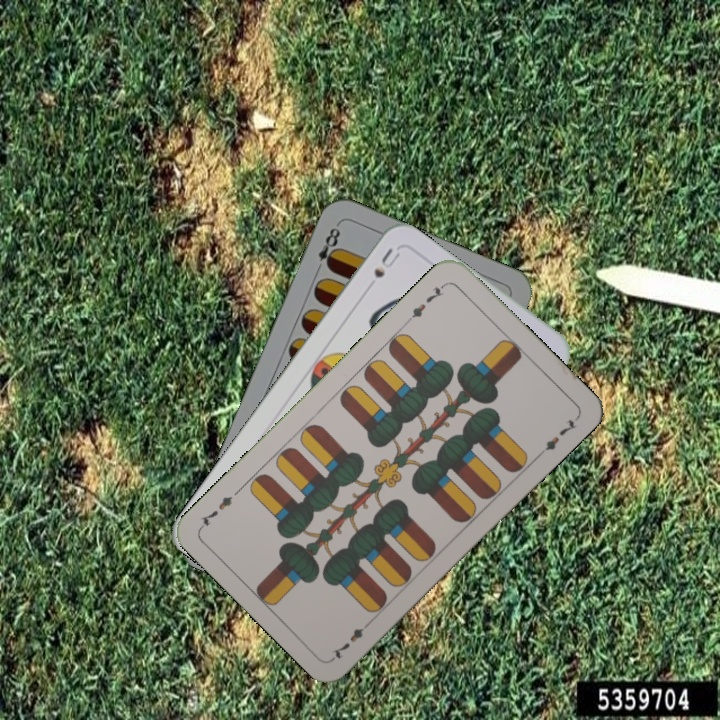E7: (327, 616, 375, 662), (403, 279, 448, 326)
E8: (311, 220, 344, 276)
SU: (369, 244, 403, 281)
